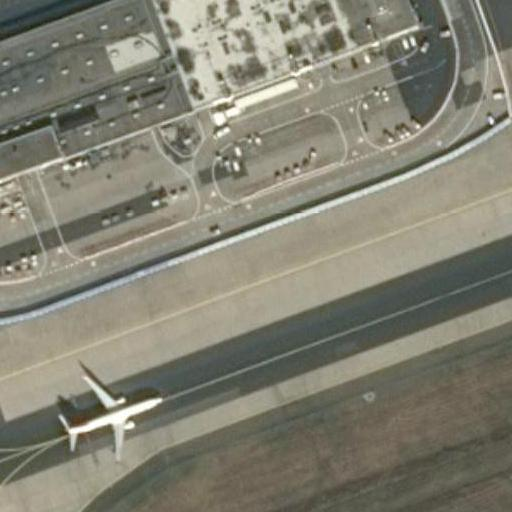Aircraft: (54, 363, 166, 461), (51, 364, 163, 461)
